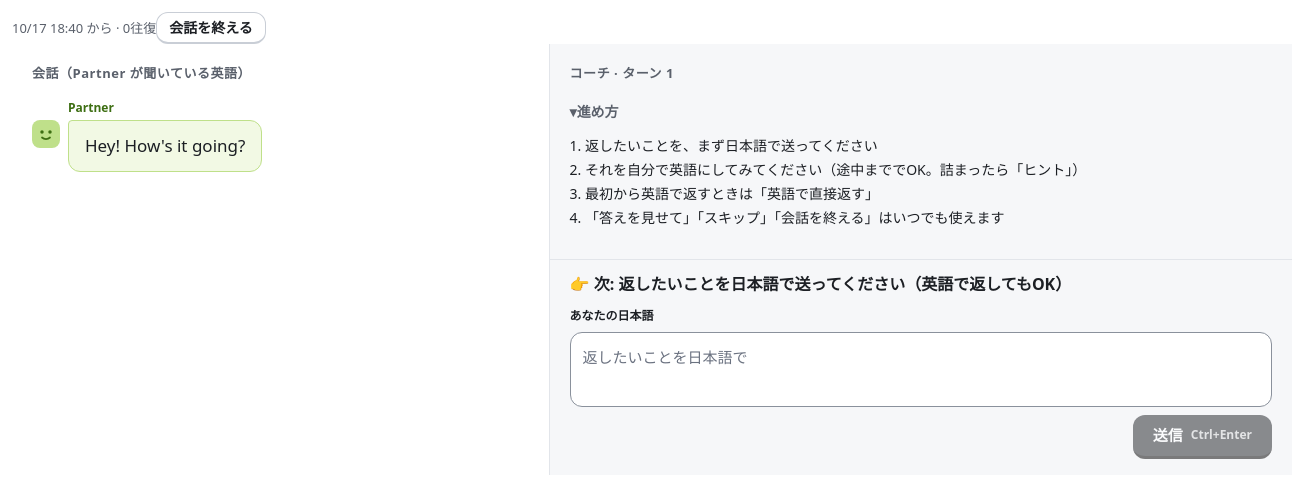
Test case: Composer on the conversation screen (REQ-005) › keeps the text and shows a field's 422 under it
The image size is (1292, 492).
Type "久しぶりに映画を見た" into the text box labelled "あなたの日本語".
click(921, 369); type("久しぶりに映画を見た")  # box [570,332,1272,406]
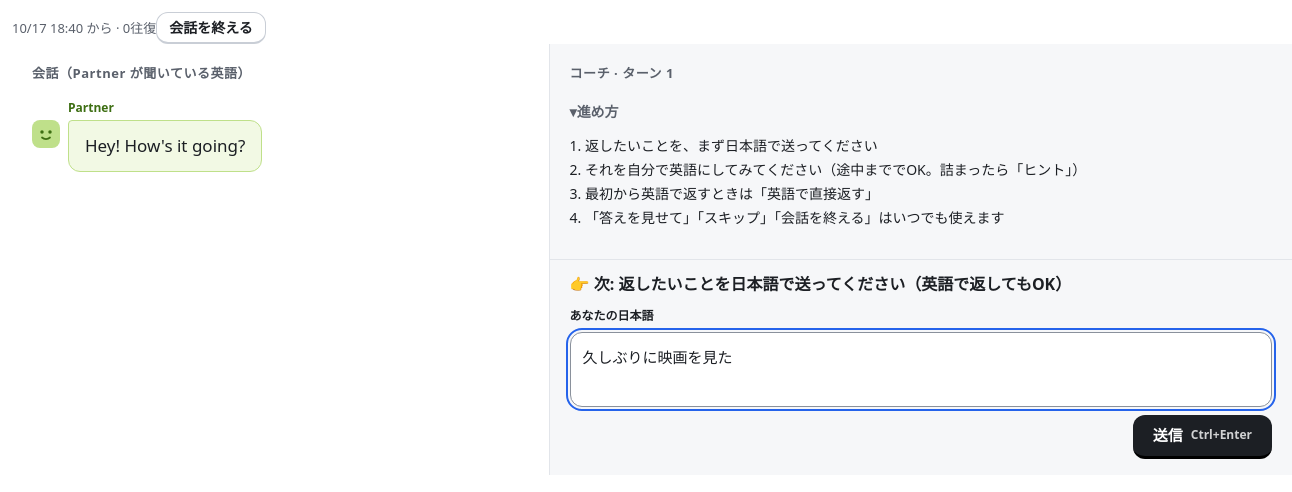
Type keys "{Meta>}{Enter}{/Meta}"
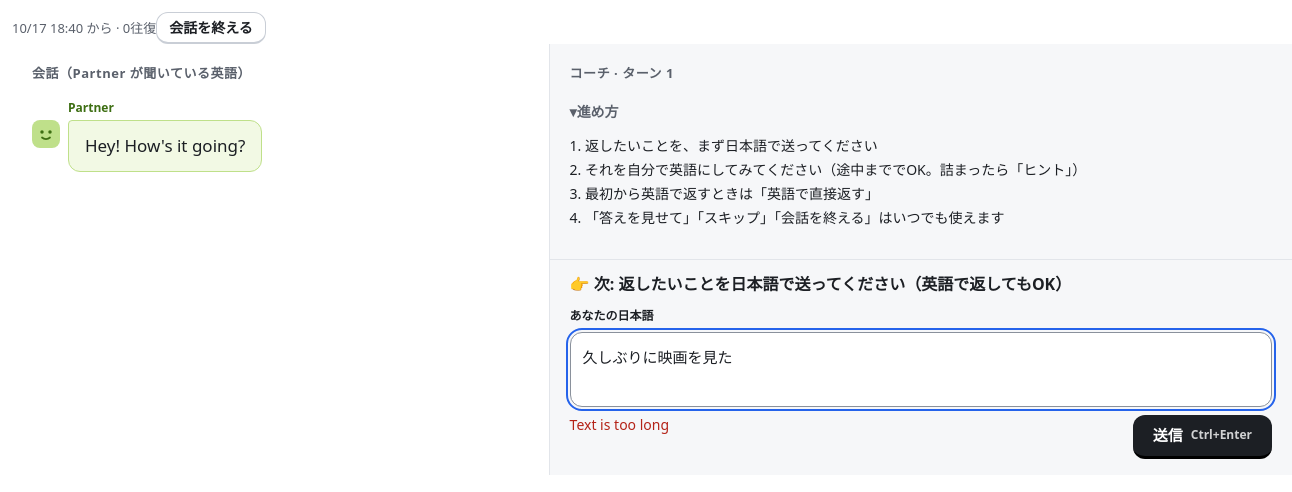
Expected: the text box labelled "あなたの日本語" is enabled, [570,332,1272,406]
Expected: the message "Text is too long" is shown, [570,414,669,434]
